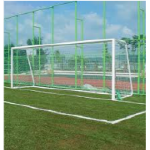goals: (8, 38, 135, 103)
